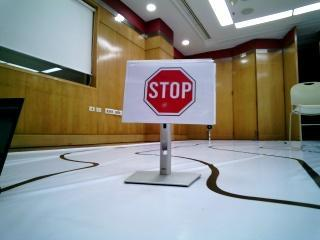stop: (126, 61, 214, 121)
